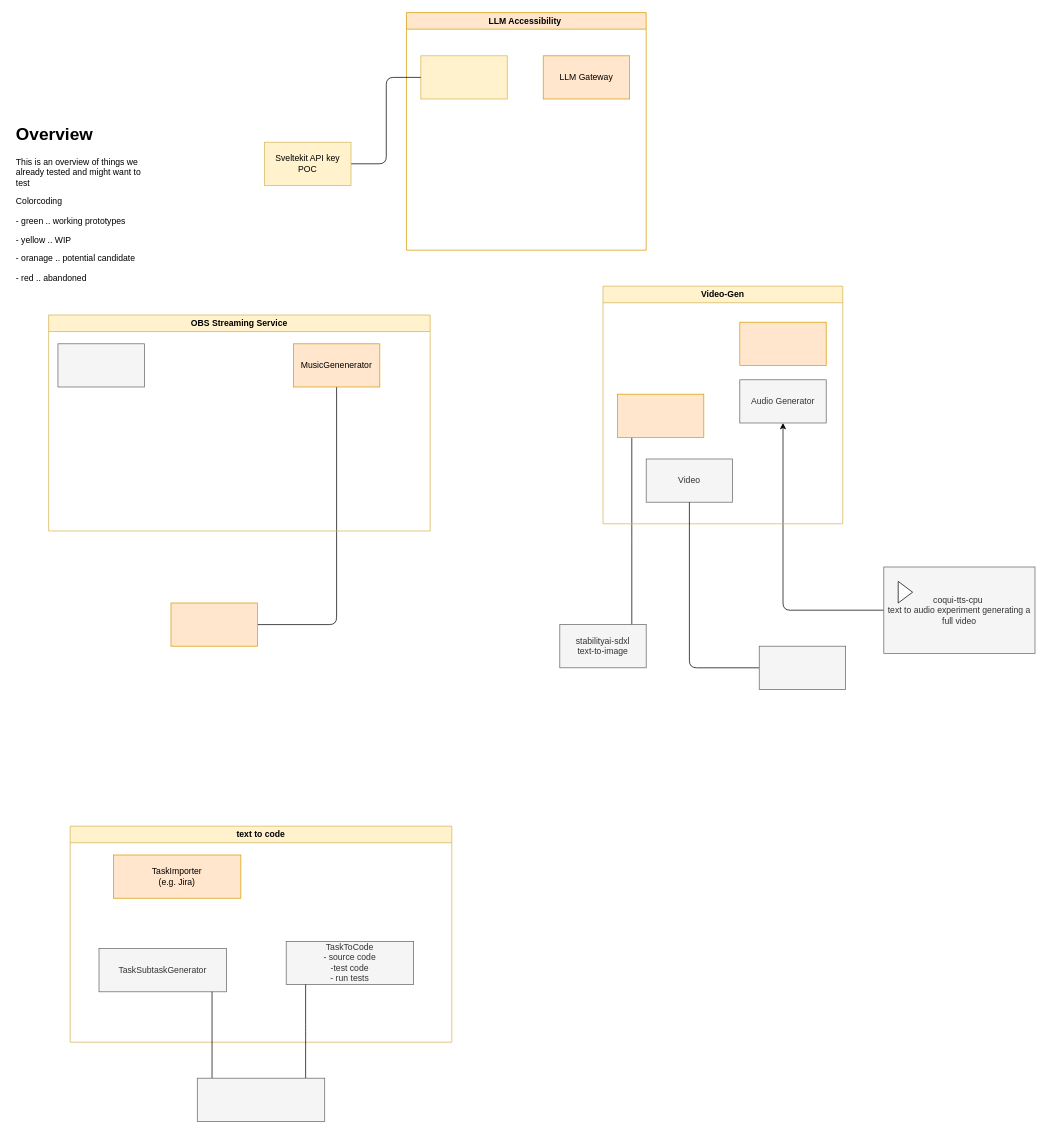
The diagram is 1048 pixels wide and 1134 high, and some of its shapes have lost their labels. The shapes that lost their labels are listed below. From the top down, each one's centre as x and y in pixels, then its label:
At point (463, 77): "LLM ApiKey Proxy".
At point (782, 343): "Story Generator".
At point (100, 365): "Streaming".
At point (660, 415): "Image Generator".
At point (213, 624): "music style transfer".
At point (802, 667): "FFMpeg".
At point (261, 1099): "LLM e.g. GPT3&4".
